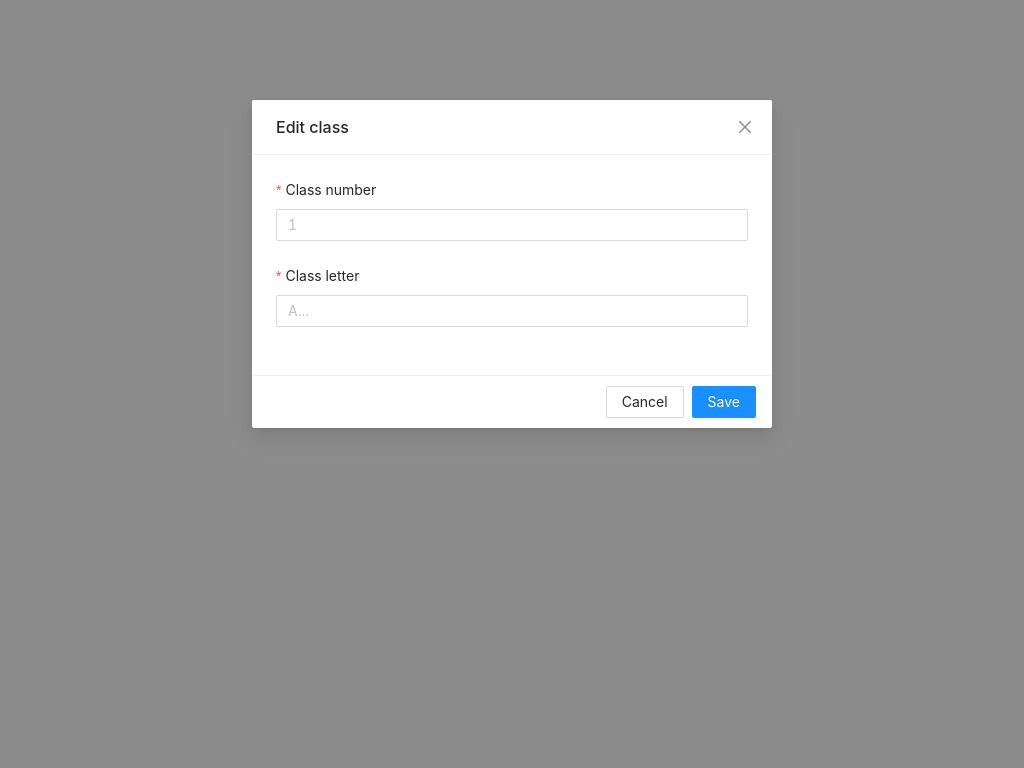
Test: <EditClassForm /> render › Should render with error messages
This screenshot has width=1024, height=768.
Clear the field with placeholder "1" at (512, 225), box [276,209,748,241]
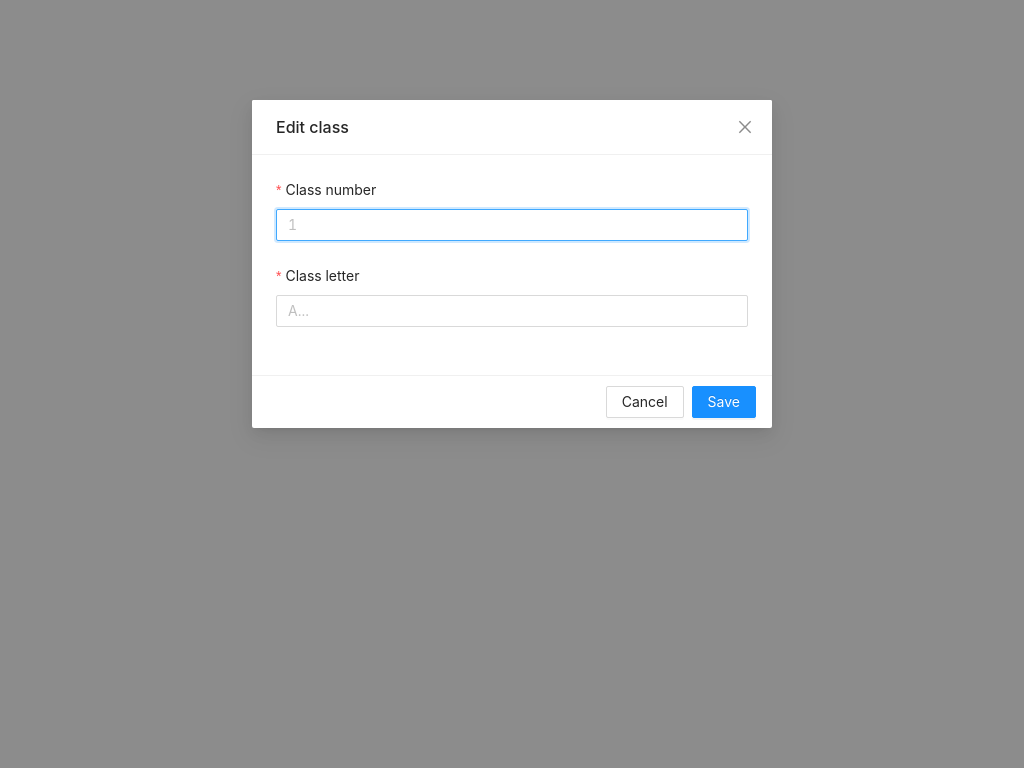
Clear the field with placeholder "A..." at (512, 311), box [276,295,748,327]
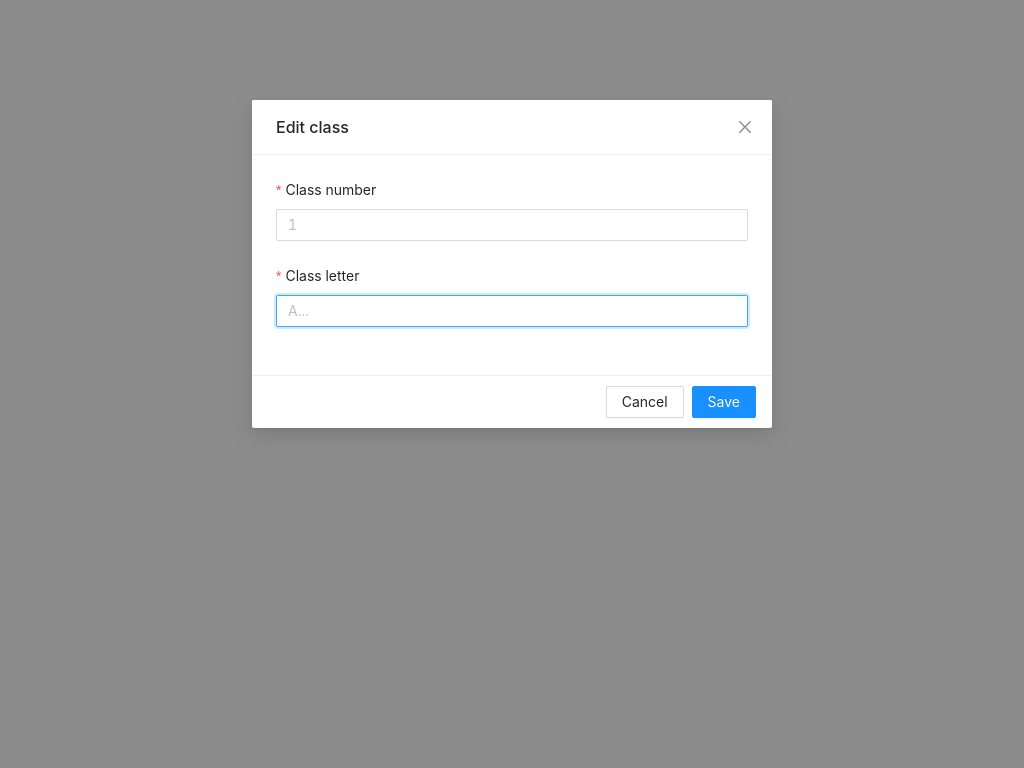
Click the button "Save" at (724, 402), box [692,386,756,418]
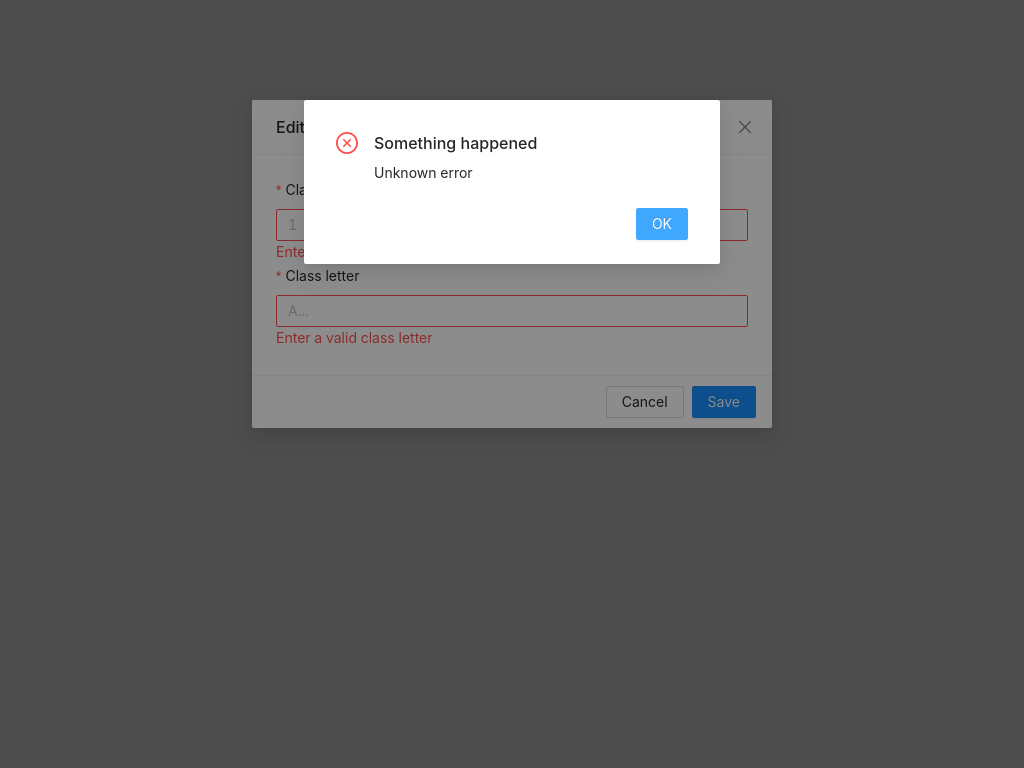
Result: the text "Enter a valid class number" is shown 2 times at [276,243,449,260]; [276,329,432,346]
Result: the text "Enter a valid class number" is shown at [276,243,449,260]
Result: the text "Enter a valid class letter" is shown at [276,329,432,346]
